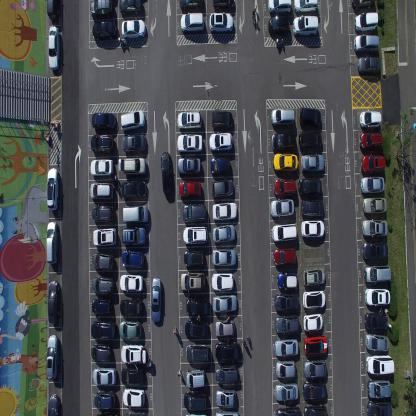car: (271, 151, 298, 174), (366, 354, 394, 376), (160, 150, 173, 197), (47, 334, 60, 380), (120, 110, 146, 133), (292, 15, 318, 38), (214, 341, 241, 363), (47, 167, 60, 212), (48, 25, 61, 70), (92, 19, 117, 42), (271, 220, 297, 242), (46, 220, 59, 264), (176, 110, 202, 132), (363, 264, 391, 284), (359, 130, 383, 153), (209, 11, 233, 34), (302, 380, 327, 402), (123, 179, 148, 201), (121, 342, 146, 364), (274, 292, 299, 314), (121, 18, 146, 40), (274, 312, 300, 333), (212, 200, 238, 221), (362, 241, 388, 262), (361, 219, 387, 240), (92, 112, 118, 133), (90, 134, 116, 155), (182, 224, 208, 245), (180, 271, 206, 292), (366, 377, 392, 398), (276, 380, 300, 402), (304, 333, 328, 355), (354, 11, 378, 33), (180, 12, 204, 34), (274, 336, 299, 357), (300, 219, 325, 240), (176, 156, 201, 177), (364, 287, 390, 307), (121, 226, 147, 246), (185, 343, 211, 363), (353, 34, 379, 54), (211, 177, 234, 199), (184, 389, 207, 411), (151, 277, 162, 323), (299, 128, 322, 150), (300, 105, 322, 128), (122, 248, 146, 269), (209, 131, 233, 152), (304, 358, 328, 379), (93, 226, 117, 247), (91, 318, 116, 338), (119, 272, 144, 292), (360, 154, 385, 174), (90, 181, 115, 201), (181, 203, 206, 223), (184, 318, 209, 338), (300, 153, 325, 173), (48, 279, 59, 324), (177, 134, 203, 153), (366, 398, 393, 416), (268, 15, 290, 37), (179, 179, 202, 200), (93, 365, 117, 385), (122, 387, 146, 407), (118, 318, 142, 338), (362, 197, 386, 217), (270, 198, 294, 218), (302, 266, 326, 286), (123, 134, 147, 154), (212, 223, 236, 243), (186, 297, 210, 317), (214, 364, 238, 384), (357, 56, 381, 76), (364, 332, 389, 351), (212, 294, 237, 313), (122, 205, 148, 223), (275, 358, 297, 379), (210, 154, 231, 176), (211, 109, 233, 130), (92, 251, 115, 271), (92, 275, 115, 295), (120, 296, 143, 316), (303, 288, 326, 308), (91, 158, 114, 178), (211, 271, 234, 291), (273, 178, 296, 198), (298, 176, 321, 196), (358, 109, 381, 129), (364, 311, 388, 330), (360, 176, 384, 195), (123, 157, 147, 176), (212, 247, 236, 266), (271, 108, 295, 127), (273, 247, 297, 266), (271, 132, 296, 150), (121, 366, 144, 385), (301, 199, 324, 218), (92, 205, 115, 224), (89, 0, 113, 18), (303, 312, 323, 333), (185, 368, 206, 388), (277, 270, 298, 290), (93, 390, 116, 408), (267, 0, 292, 16), (91, 341, 112, 360), (293, 0, 319, 15), (216, 388, 236, 407), (184, 248, 204, 267), (92, 297, 112, 315), (215, 318, 235, 336), (118, 0, 142, 15), (46, 0, 60, 21), (303, 403, 327, 415), (47, 393, 60, 415), (350, 0, 376, 11), (179, 0, 203, 11), (276, 405, 301, 415), (212, 0, 235, 10), (214, 410, 240, 416), (96, 410, 120, 416), (124, 410, 148, 415), (185, 411, 208, 415)
